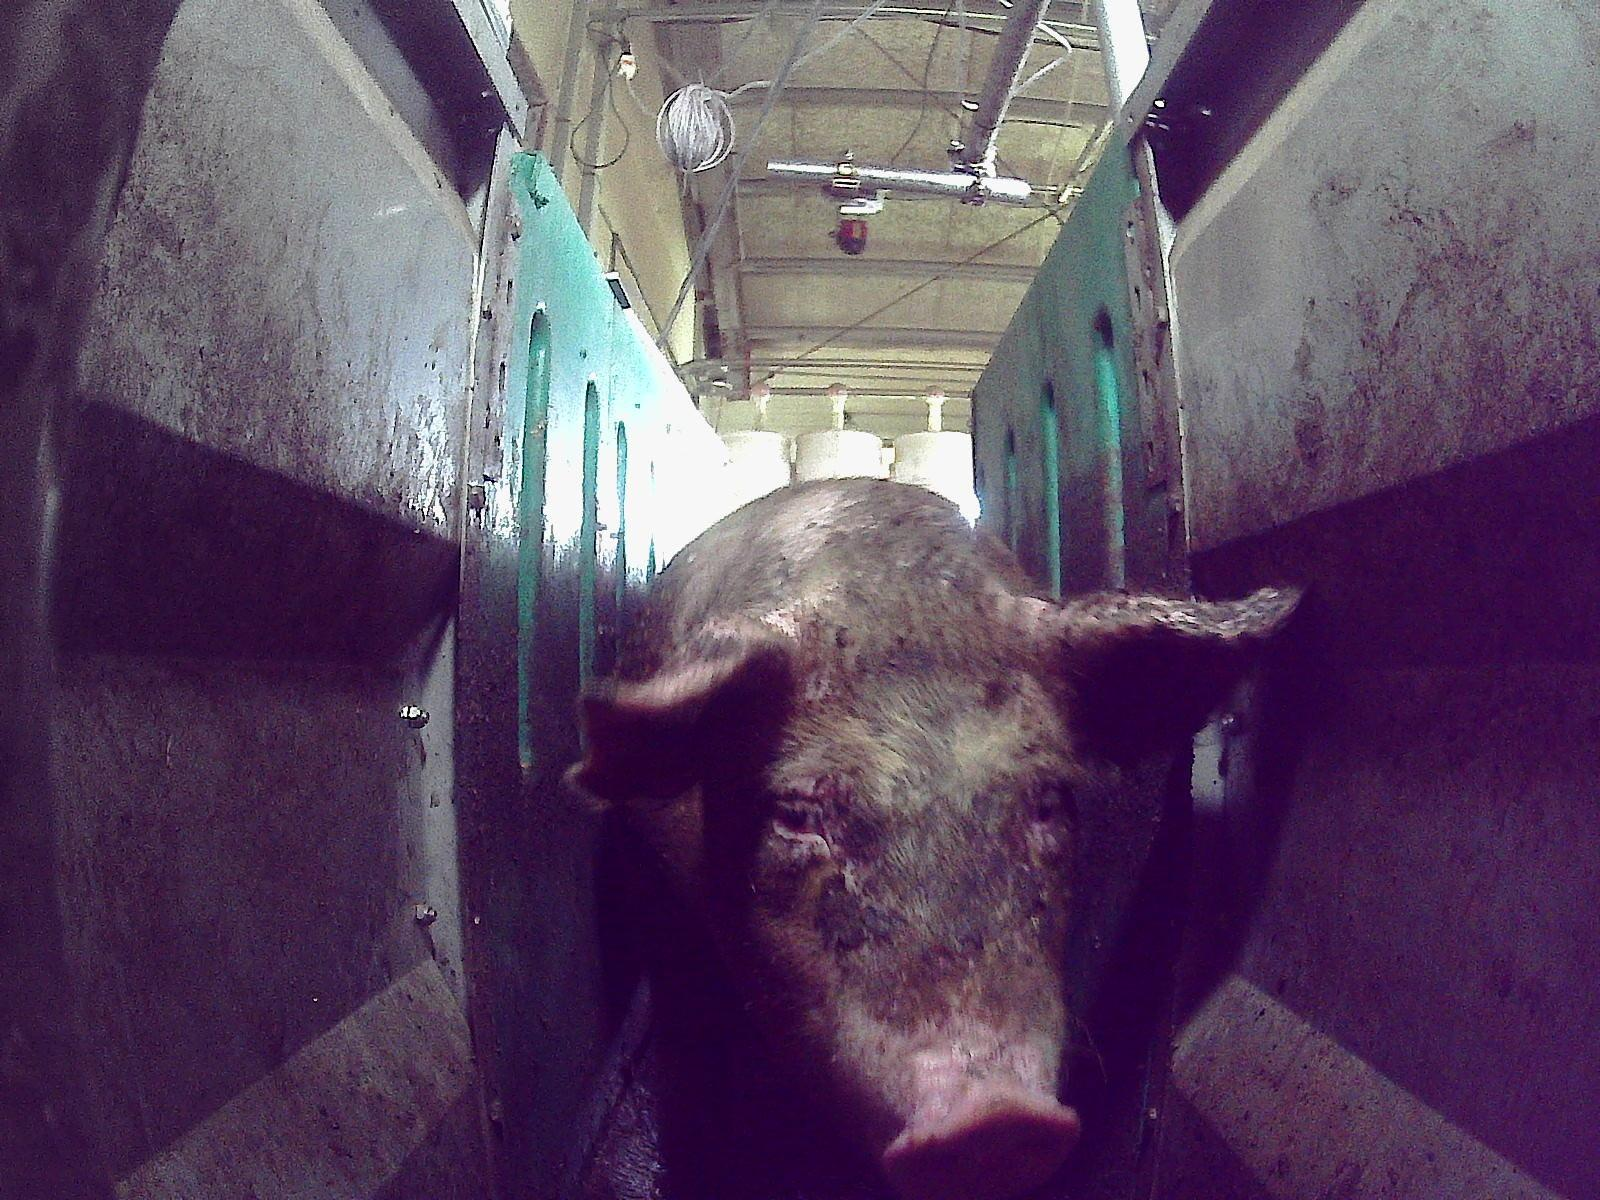Face: (717, 633, 1080, 1199)
